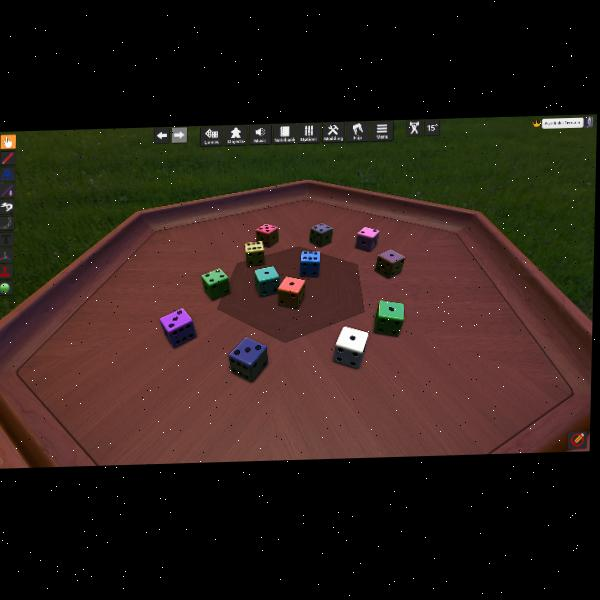d6: (227, 336, 268, 383), (333, 324, 368, 368), (160, 307, 197, 348), (374, 300, 405, 337), (201, 268, 230, 301), (277, 275, 305, 309), (375, 249, 405, 280), (253, 265, 280, 297), (356, 226, 379, 252), (255, 222, 278, 248), (308, 223, 331, 248), (245, 240, 265, 267), (300, 250, 320, 277)
